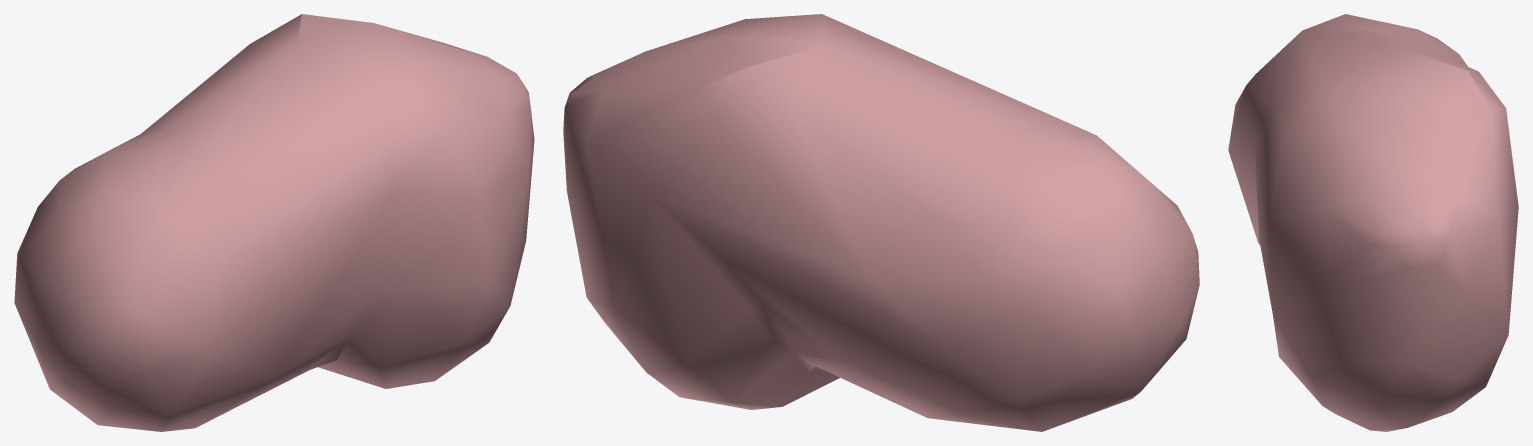
The model's file is fma16983_fj2611.glb.
The picture shows the model from 3 angles, left to right: view 1: azimuth 30°, elevation 25°; view 2: azimuth 150°, elevation 25°; view 3: azimuth 270°, elevation 25°; orthographic projection. The views are drawn at different scales.
Visible parts, largest first — view 1: FMA16983_FJ2611; view 2: FMA16983_FJ2611; view 3: FMA16983_FJ2611.
Part boxes in pixels (x1,y1,x2,y2): FMA16983_FJ2611: (14, 14, 534, 431); FMA16983_FJ2611: (563, 14, 1199, 431); FMA16983_FJ2611: (1228, 14, 1518, 431).
Bounding box in the file's own units: 0.0478 × 0.0305 × 0.0244.
